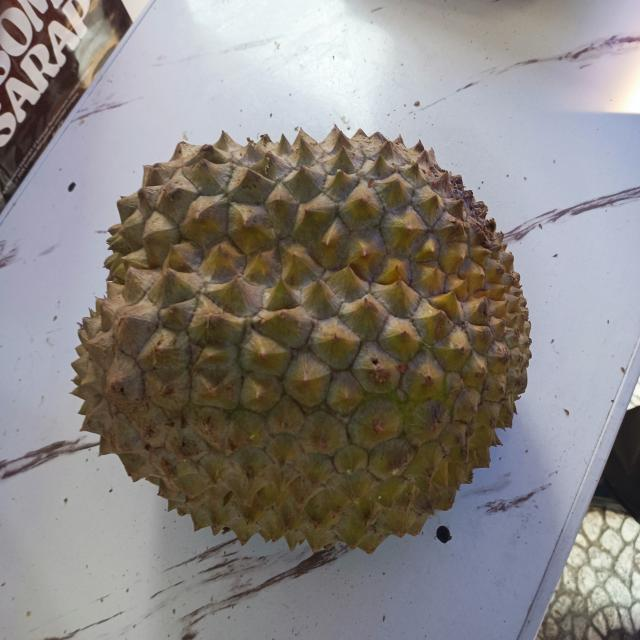mature: (70, 118, 528, 548)
